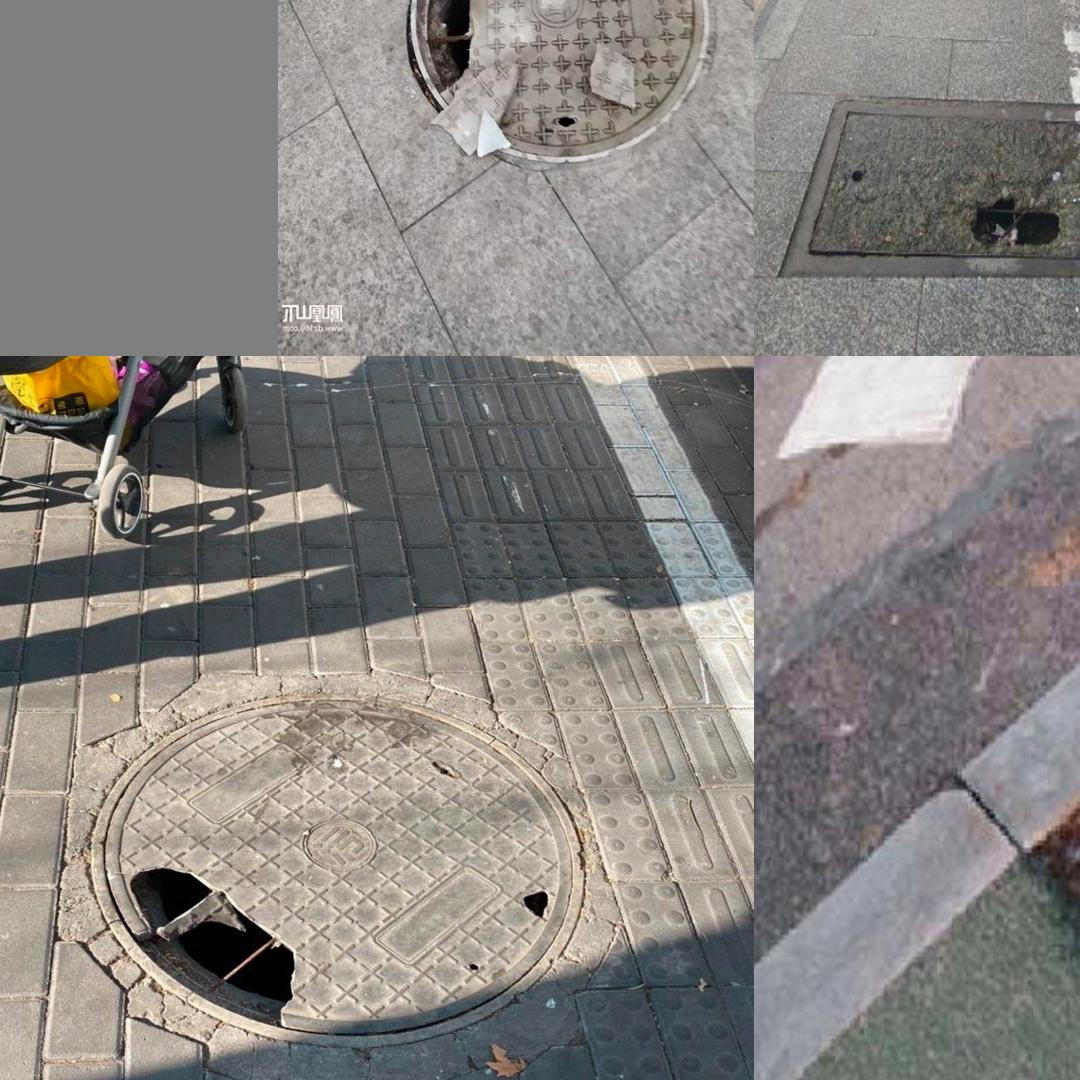broke: (88, 690, 586, 1049), (379, 0, 714, 188), (782, 100, 1080, 281), (1018, 479, 1080, 1080)
